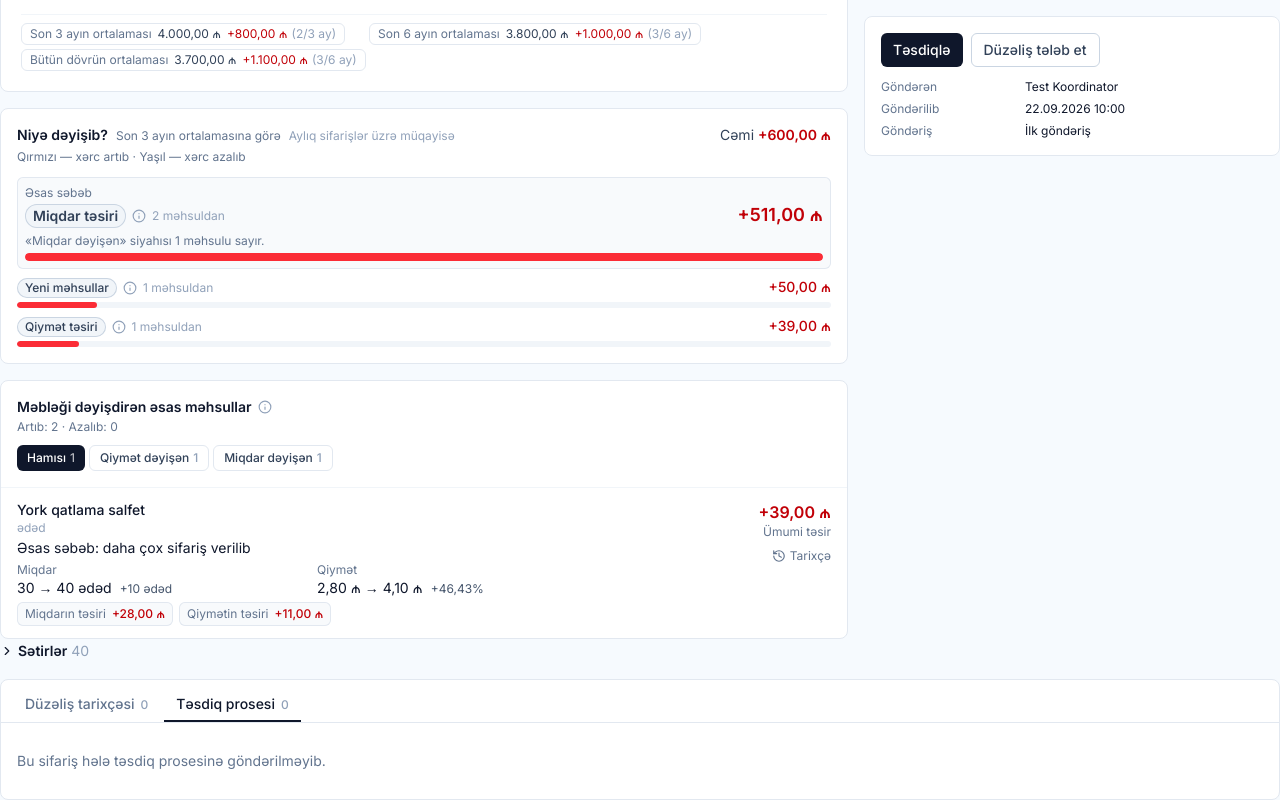
Test: the drivers › opens the history with this month against the page s own basis, and the supplier
(page scrolled)
Click the button "York qatlama salfet" at (81, 510), box [1,488,847,638]
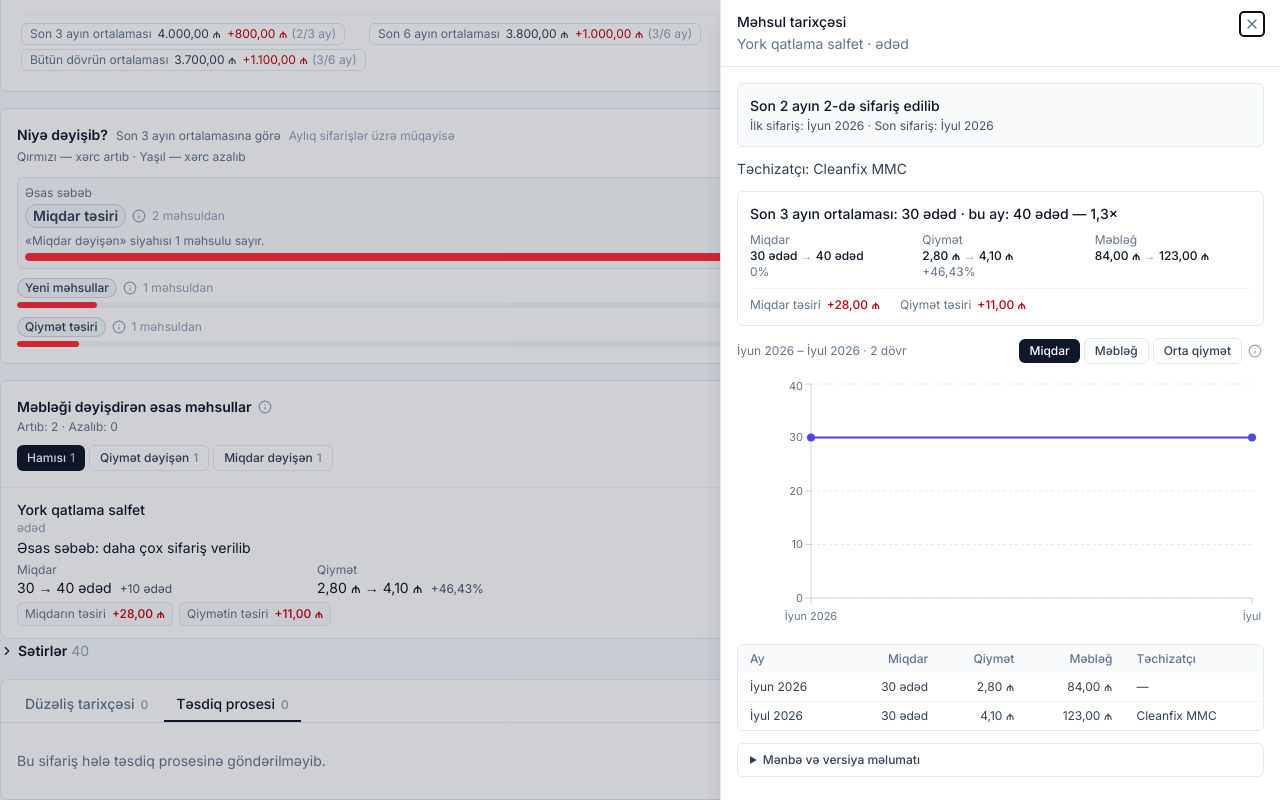
Result: the text "Son 3 ayın ortalaması: 30 ədəd · bu ay: 40 ədəd — 1,3×" is shown at [750,205,1118,222]
Result: the text "Təchizatçı: Cleanfix MMC" is shown at [737,160,907,177]
